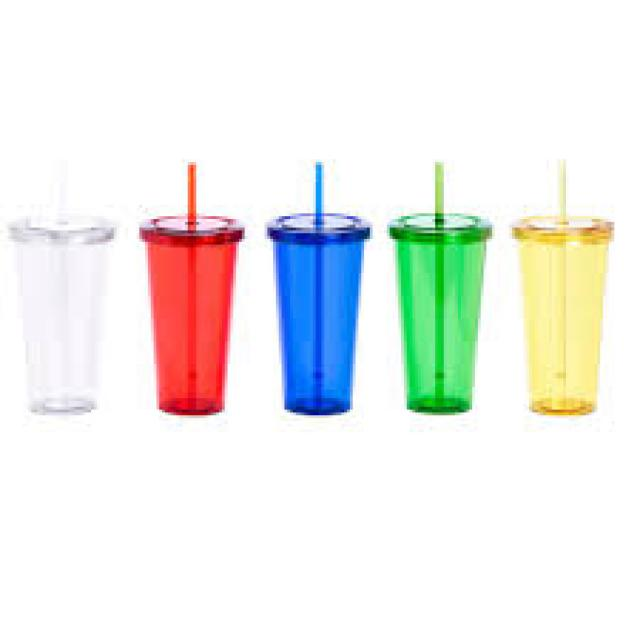cup: (502, 199, 634, 435), (378, 208, 505, 423), (9, 200, 128, 422), (264, 200, 380, 426), (141, 202, 247, 433)
